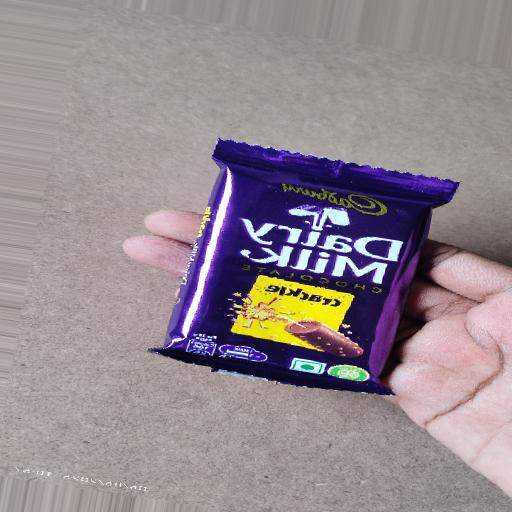Cadbury Dairy Milk Crackle: (133, 107, 466, 427)
